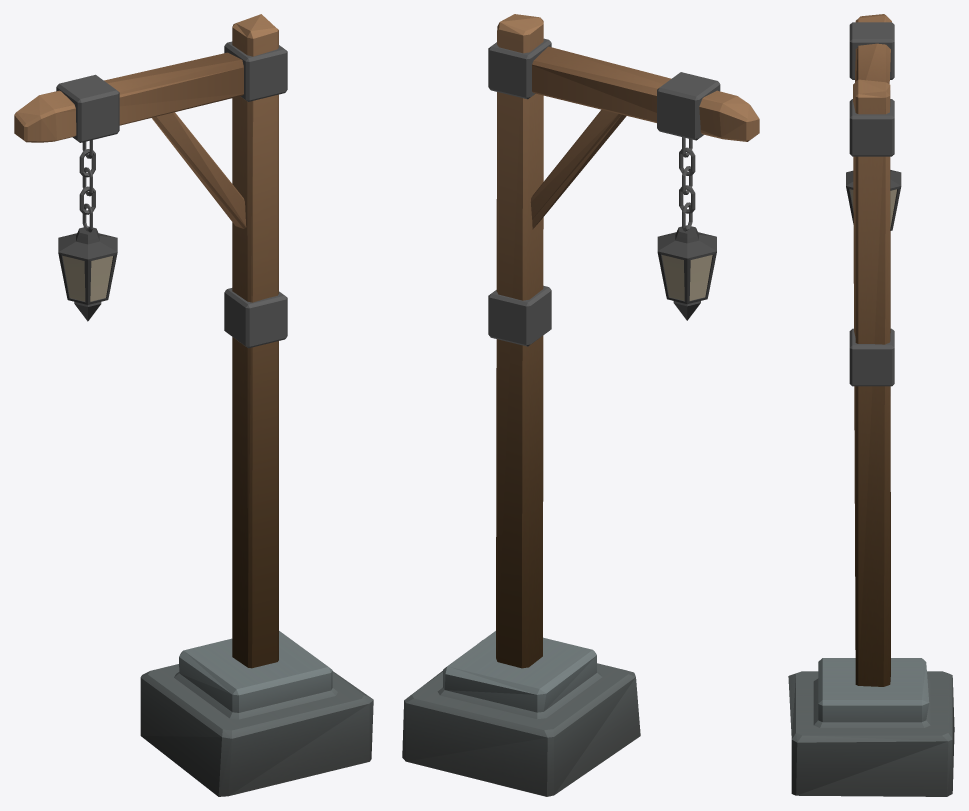
Rendered from ZLP_Build_E_1.FBX.
3 views of the same model, side by side, from view 1: azimuth 30°, elevation 25°; view 2: azimuth 150°, elevation 25°; view 3: azimuth 270°, elevation 25° (orthographic). The views are drawn at different scales.
Visible parts, largest first — view 1: ZLP_Build_E_1; view 2: ZLP_Build_E_1; view 3: ZLP_Build_E_1.
Part boxes in pixels (x1,y1,x2,y2): ZLP_Build_E_1: (14, 14, 373, 796); ZLP_Build_E_1: (402, 14, 759, 796); ZLP_Build_E_1: (788, 14, 954, 796).
Bounding box in the file's own units: 143 × 316 × 70.32.
